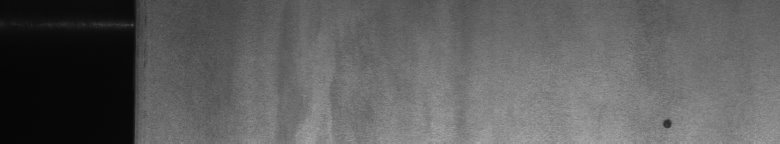fi: (657, 112, 682, 136)
